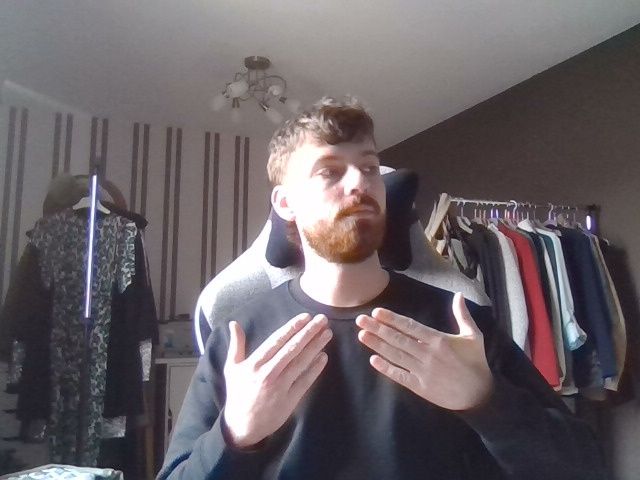Thanks: (212, 289, 505, 437)
